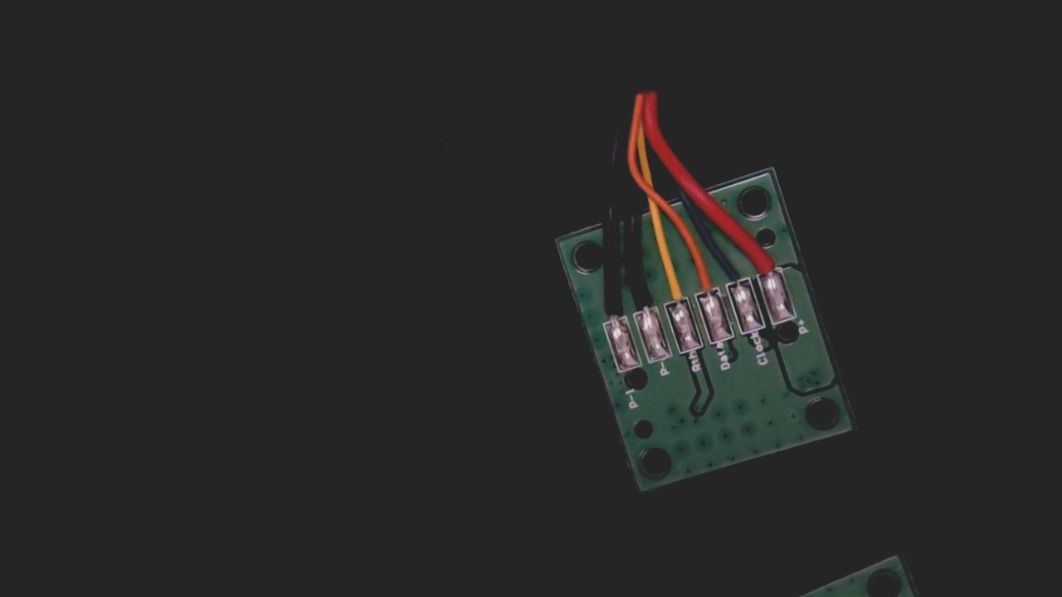Black: (620, 270, 663, 329)
Black1: (588, 275, 635, 340)
Green: (711, 246, 755, 301)
Orange: (685, 251, 724, 308)
Red: (743, 235, 785, 288)
Yellow: (651, 261, 693, 320)
